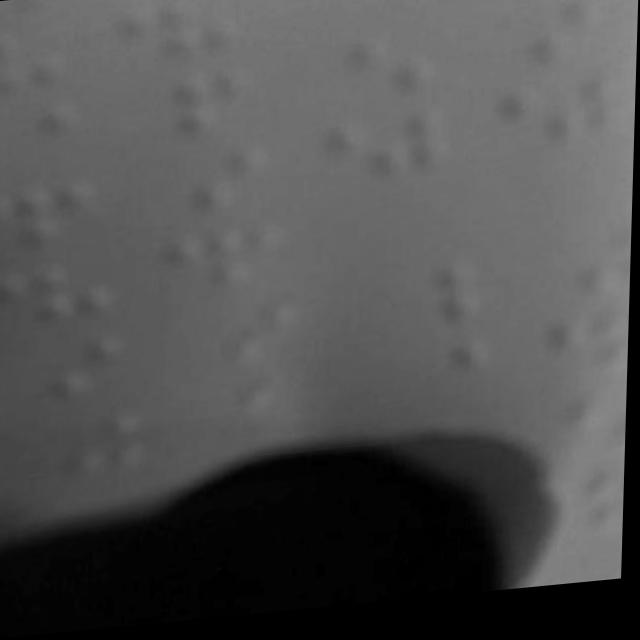braiile: (337, 264, 490, 346), (303, 115, 457, 194), (114, 71, 255, 155), (167, 301, 308, 385), (293, 33, 437, 114), (157, 222, 294, 304), (138, 149, 276, 230), (489, 85, 629, 162), (97, 0, 233, 76), (0, 333, 135, 409), (469, 5, 604, 79), (0, 257, 118, 330)
